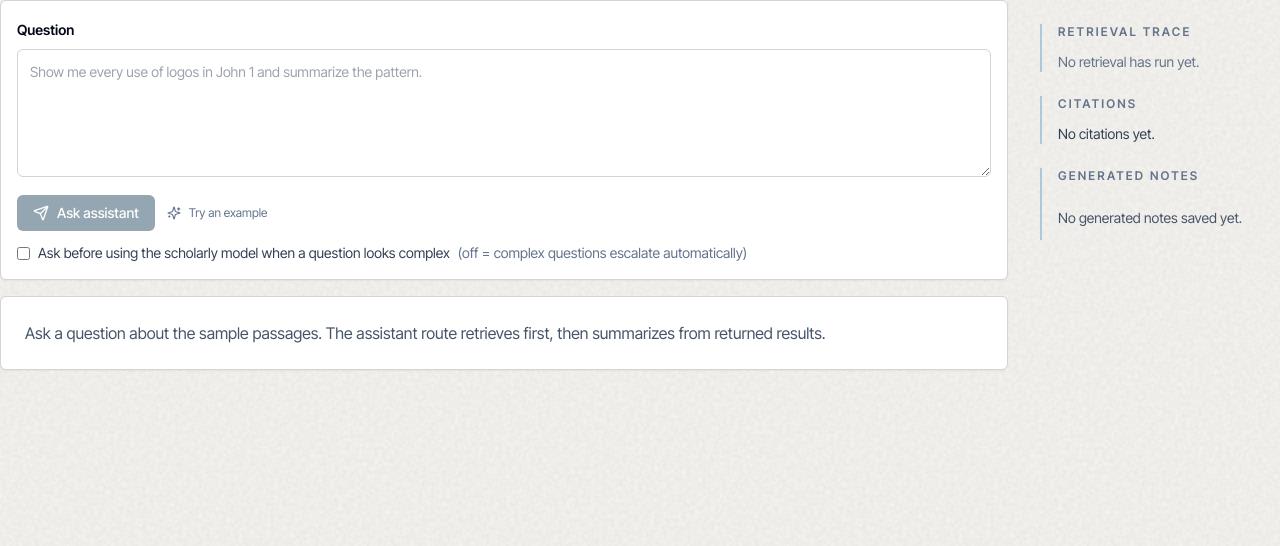
Test: AiAssistant scholarly escalation › offers escalation when recommended and re-submits with escalate:true
Replace the text in the text box with placeholder "Show me every use" with "deep synthesis" at point(504, 113), box [17,49,991,177]
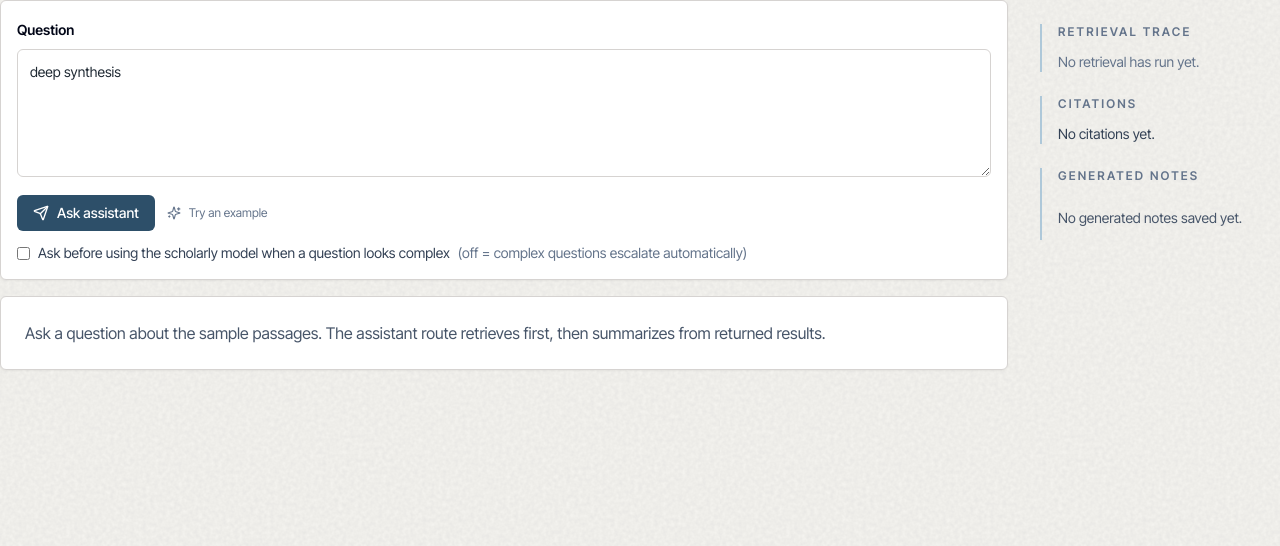
Click the button "Ask assistant".
click(86, 213)  # box [17,195,155,231]
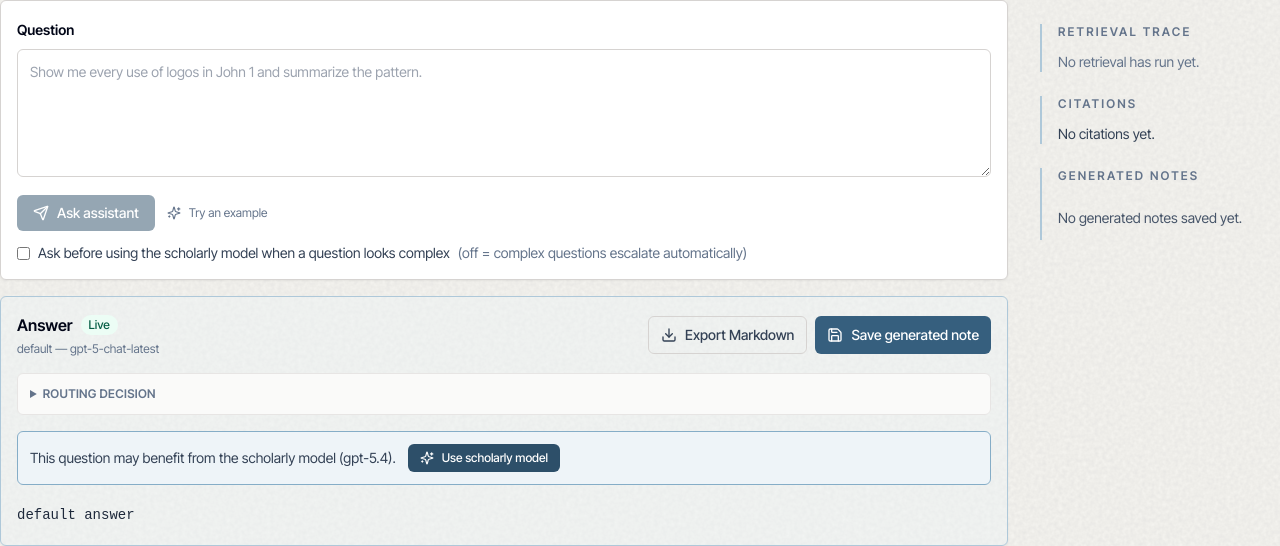
Click the button "Use scholarly model".
click(484, 458)  # box [408,444,560,472]
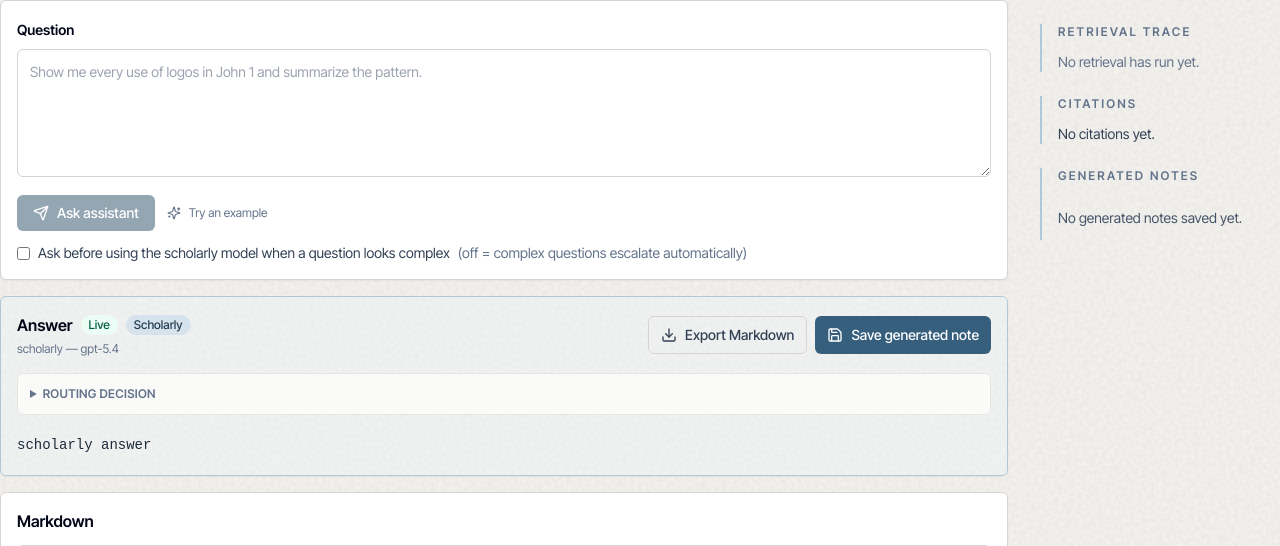
Expected: the text "scholarly answer" is shown, [17,437,151,453]
Expected: the button "Use scholarly model" is gone
